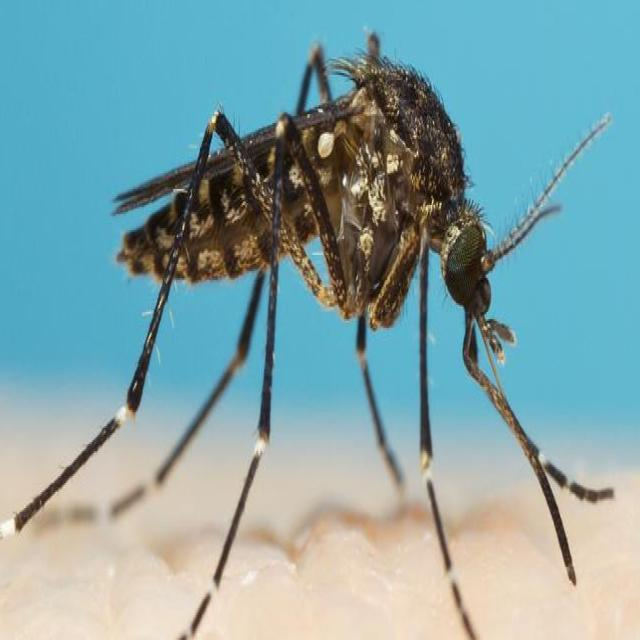Mosquito: (8, 13, 626, 631)
